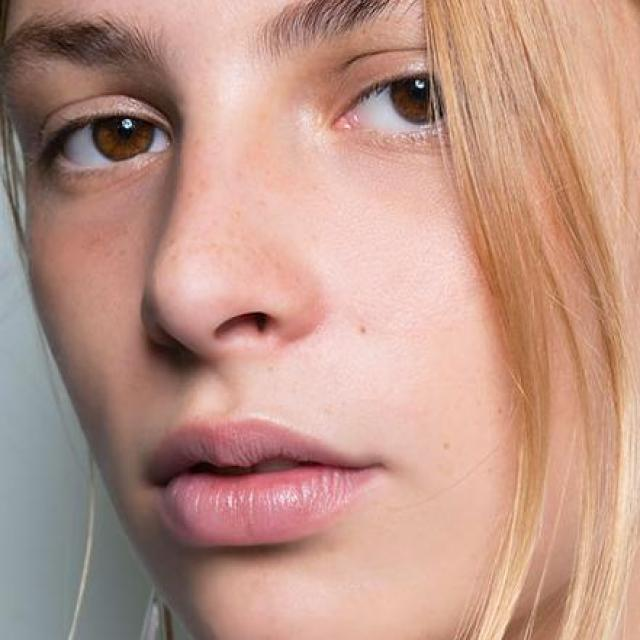Pimples: (356, 324, 374, 342), (438, 440, 456, 456)
